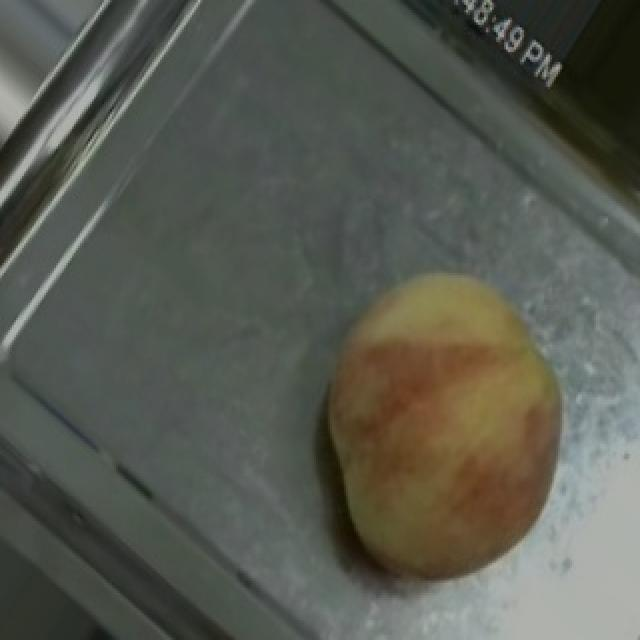Fruit: (278, 223, 600, 628)
